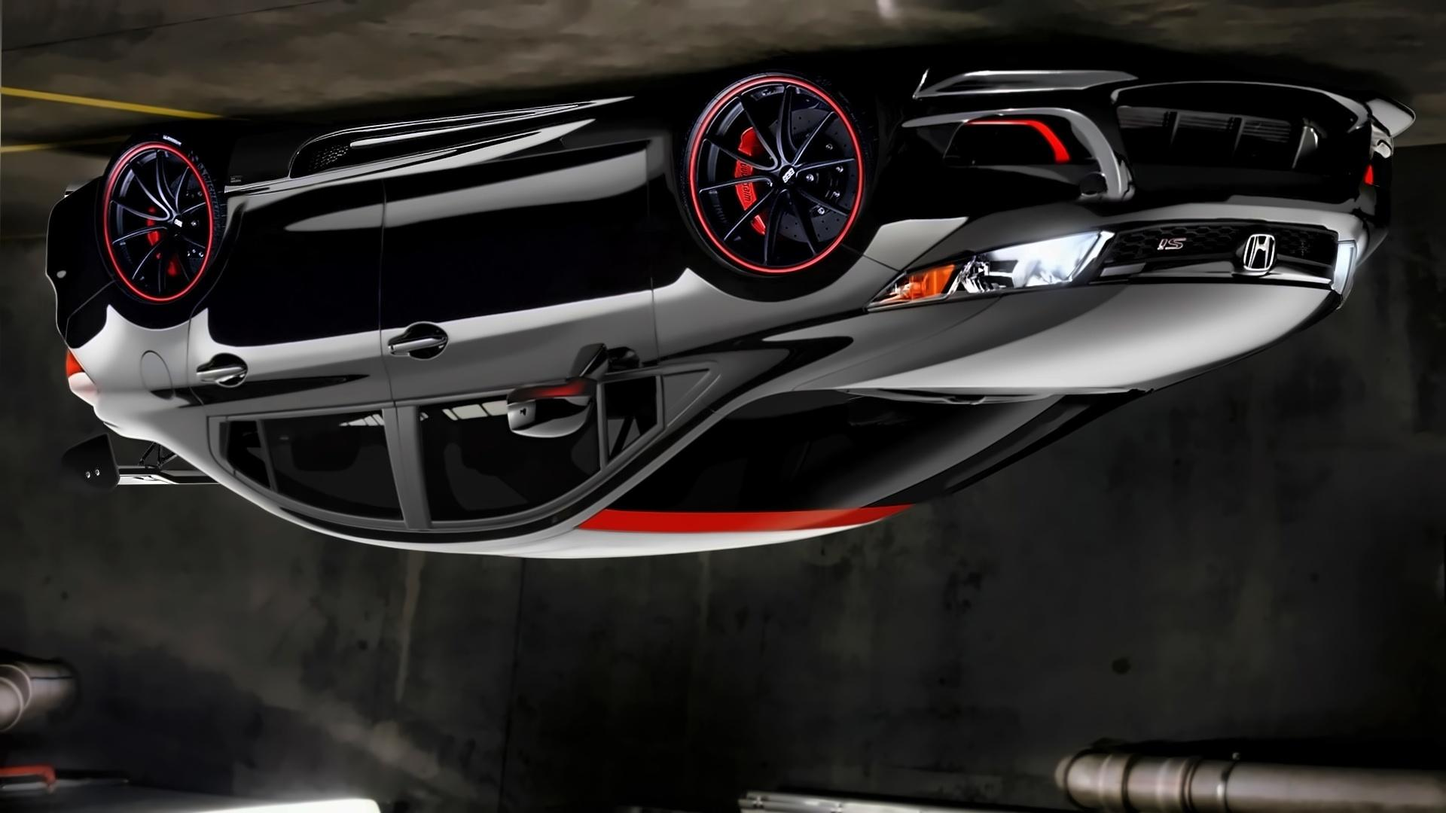Car hood: (762, 284, 1348, 402)
Fender - -F-L-: (628, 101, 905, 407)
Fender - -R-L-: (56, 252, 211, 486)
Front bumper: (856, 54, 1419, 299)
Headlight - -L-: (853, 228, 1119, 318)
Headlight - -R-: (1327, 237, 1363, 309)
Passenger-s door - -F-L-: (372, 72, 684, 563)
Passenger-s door - -R-L-: (175, 102, 431, 572)
Rear bumper: (40, 162, 118, 347)
Side bumper - -L-: (216, 69, 679, 270)
Side mirror - -L-: (503, 364, 616, 443)
